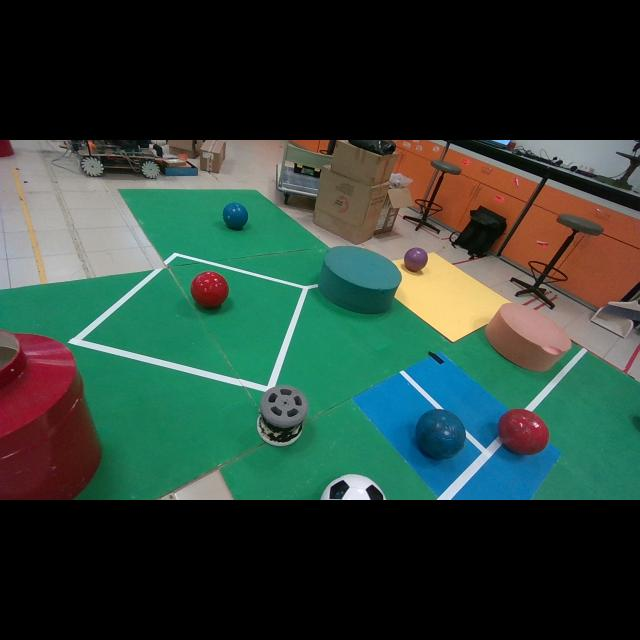B: (415, 409, 466, 459), (222, 202, 248, 229)
P: (404, 248, 428, 271)
R: (498, 409, 549, 455), (190, 271, 229, 309)
